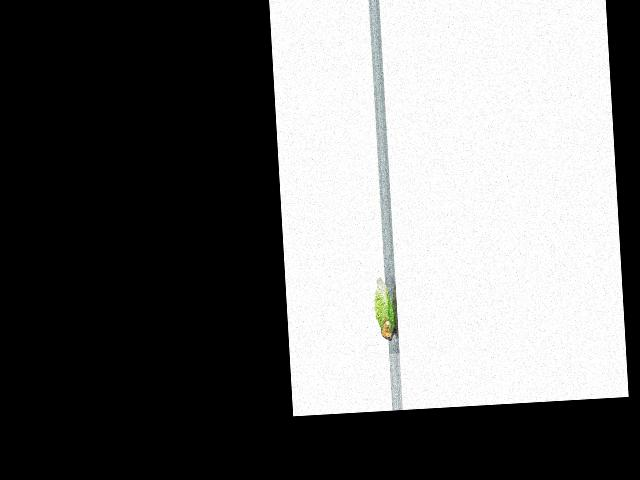lettuce: (370, 275, 399, 344)
